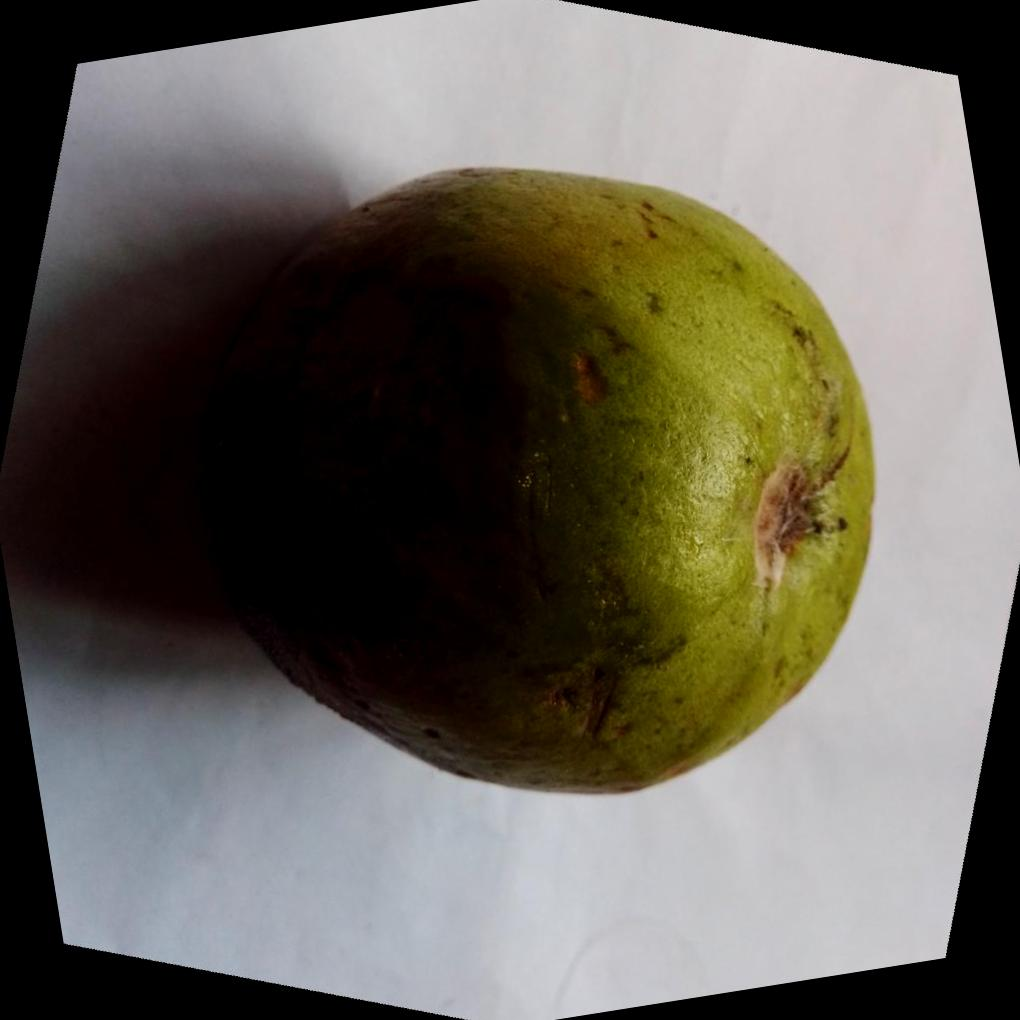FreshOrange: (195, 160, 876, 794)
